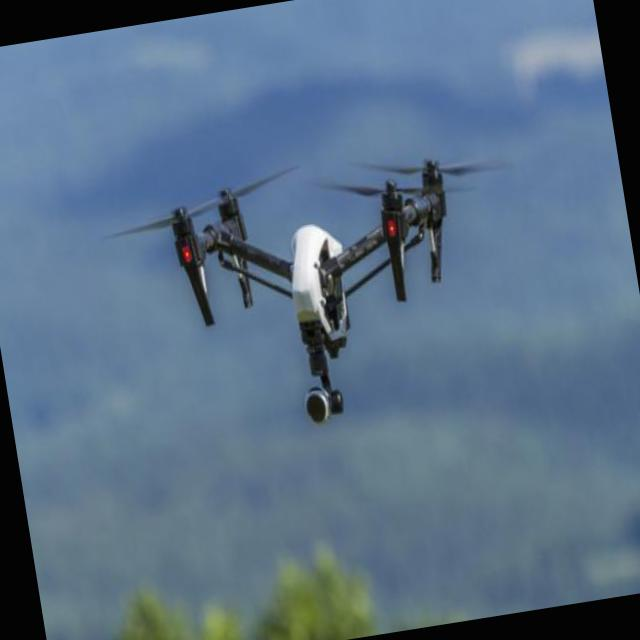drone: (121, 120, 518, 452)
